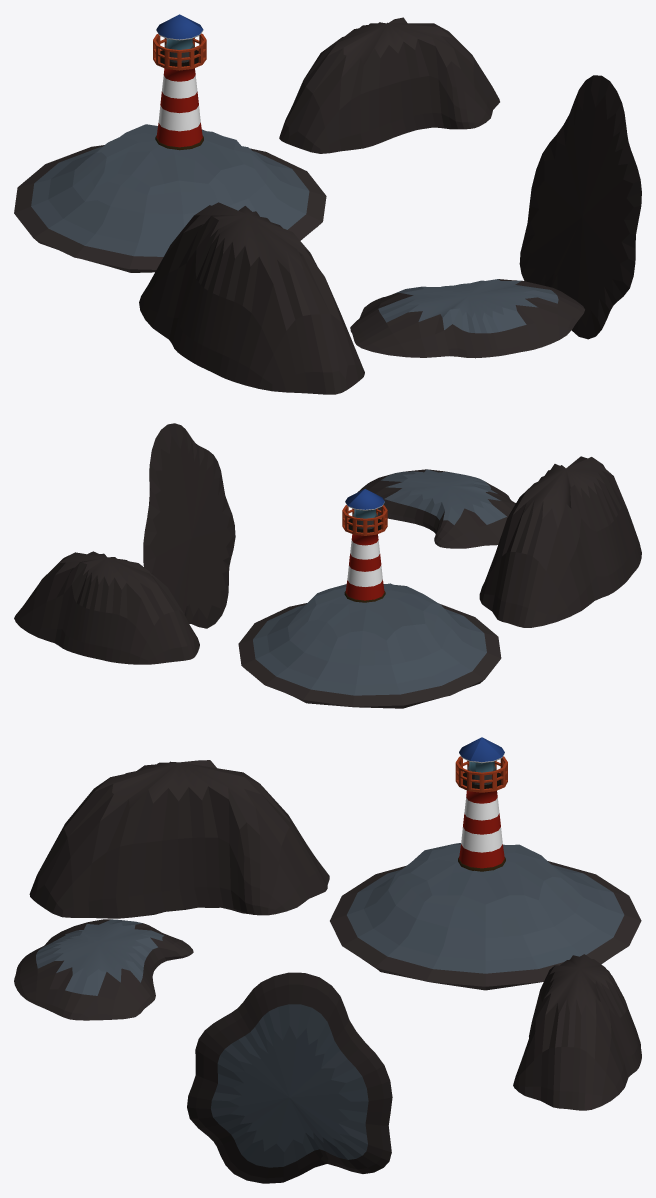
File: faro.fbx
3 views of the same model, one above another, from view 1: azimuth 30°, elevation 25°; view 2: azimuth 150°, elevation 25°; view 3: azimuth 270°, elevation 25° (orthographic). The views are drawn at different scales.
Visible parts, largest first — view 1: Isla012, SueloNieve001, Isla011, Isla010, Isla009, Faro; view 2: SueloNieve001, Isla012, Isla010, Isla011, Isla009, Faro; view 3: Isla012, Isla011, SueloNieve001, Isla010, Isla009, Faro.
Part boxes in pixels (x1,y1,x2,y2): Isla012: (139,202,364,394); SueloNieve001: (14,124,326,272); Isla011: (519,75,641,339); Isla010: (279,17,499,153); Isla009: (350,279,584,358); Faro: (153,14,206,150); SueloNieve001: (238,583,501,708); Isla012: (479,456,641,627); Isla010: (14,551,199,664); Isla011: (143,423,235,628); Isla009: (357,469,515,548); Faro: (342,489,387,602); Isla012: (29,760,329,918); Isla011: (187,972,392,1183); SueloNieve001: (330,843,641,990); Isla010: (513,954,641,1110); Isla009: (14,919,193,1020); Faro: (455,737,507,871).
Size of the model in its own units: 54.97 by 32 by 59.18.
